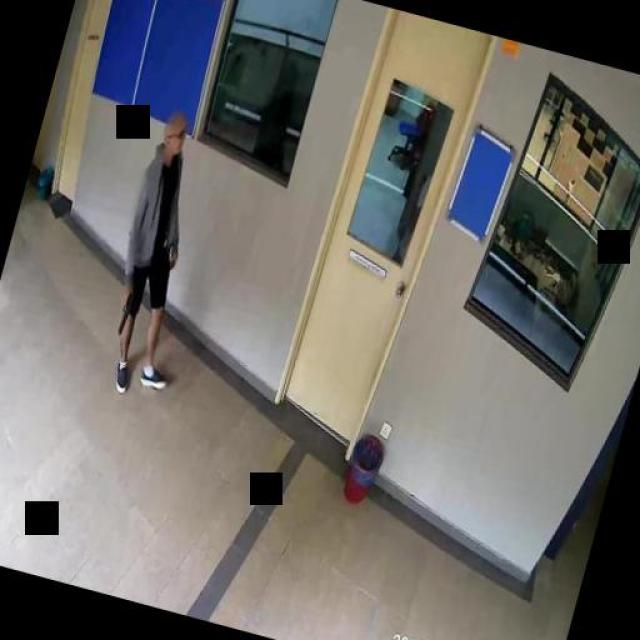gun: (112, 289, 134, 335)
